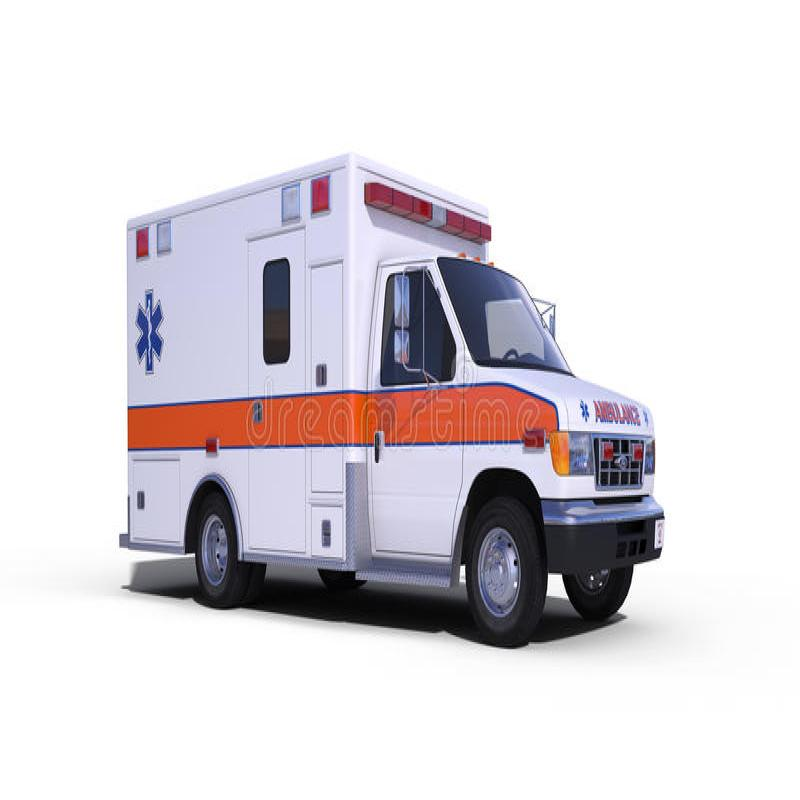AmbulanceSiren: (358, 123, 501, 260)
ambulance: (83, 137, 667, 662)
